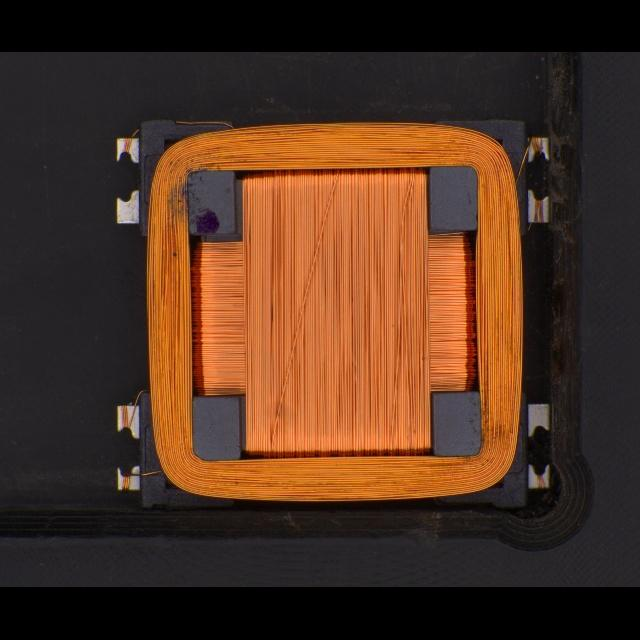Winding_Z: (130, 118, 527, 505)
